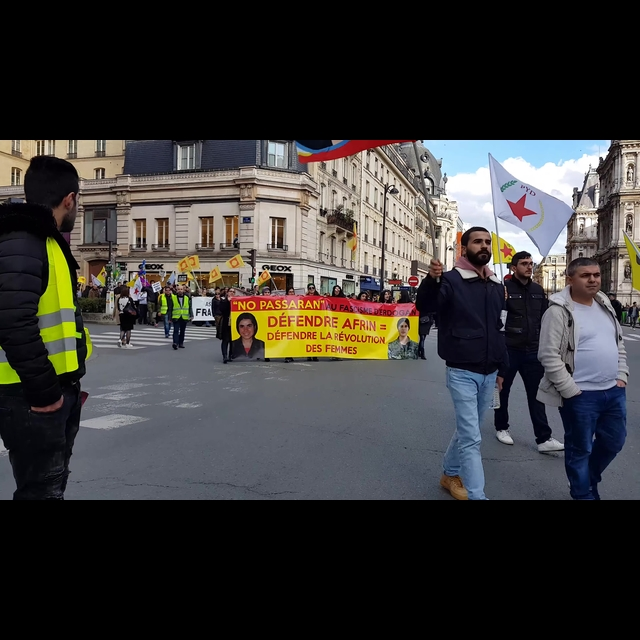PYD: (496, 175, 553, 237)
